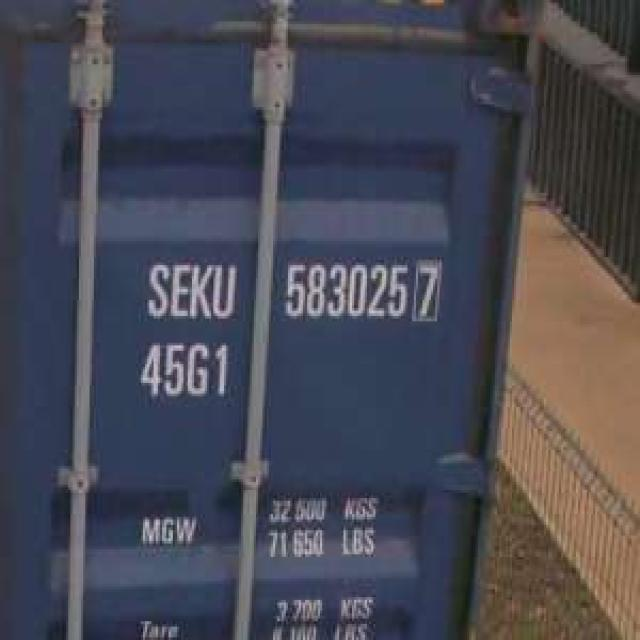dv: (412, 257, 444, 328)
owner: (141, 255, 241, 327)
serial: (284, 256, 408, 328)
size: (138, 336, 232, 404)
